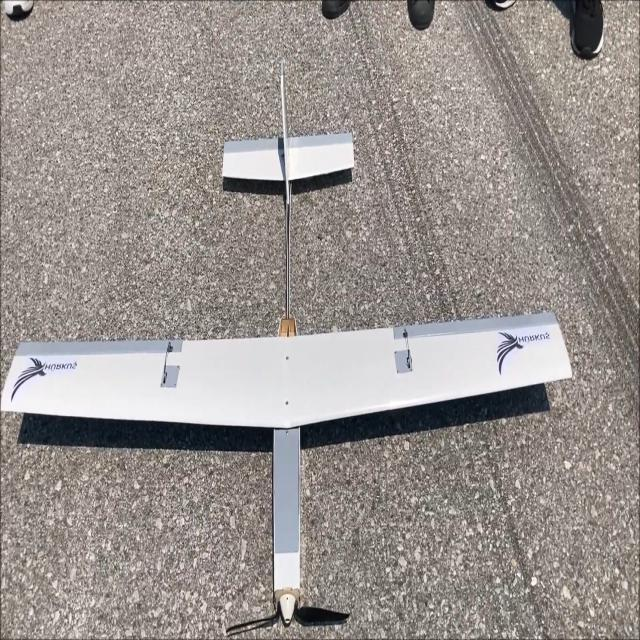UAV: (78, 124, 607, 610)
